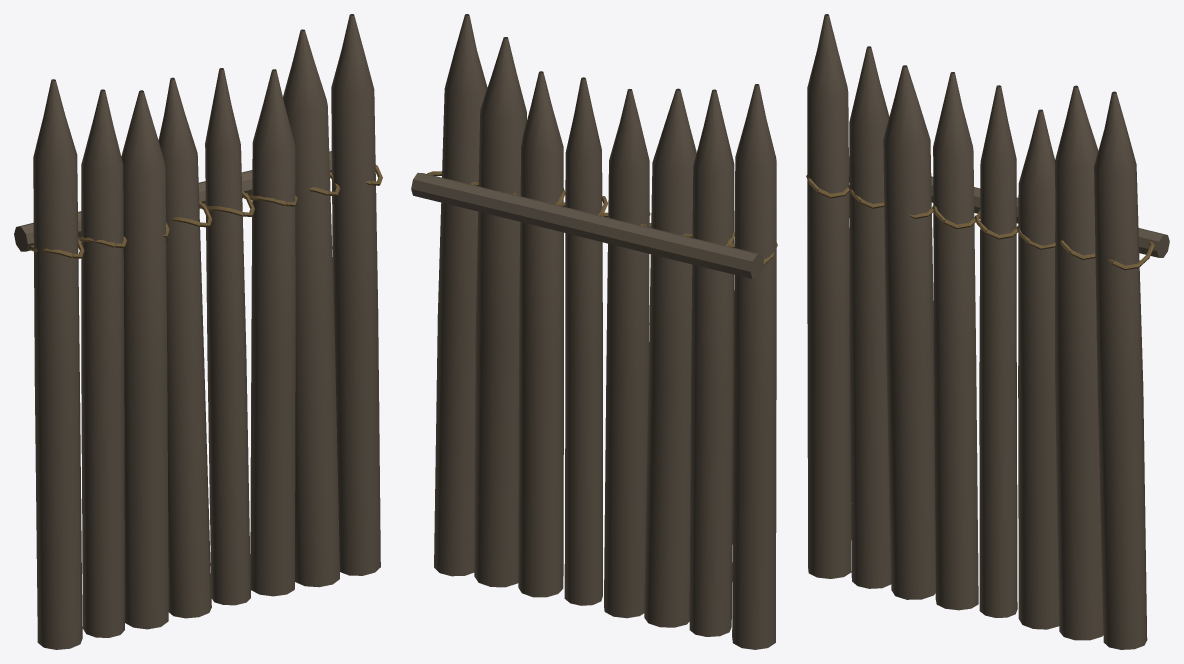
The model's file is palisade.glb.
3 views of the same model, side by side, from view 1: azimuth 30°, elevation 25°; view 2: azimuth 150°, elevation 25°; view 3: azimuth 330°, elevation 25° (orthographic).
Parts seen in each view (by area): view 1: palisade; view 2: palisade; view 3: palisade.
Boxes of the visible parts, box(x1,y1,x2,y2) form: palisade: box(14, 14, 382, 649); palisade: box(411, 14, 777, 649); palisade: box(806, 14, 1169, 649).
Size of the model in its own units: 2.01 by 3.14 by 0.3935.
